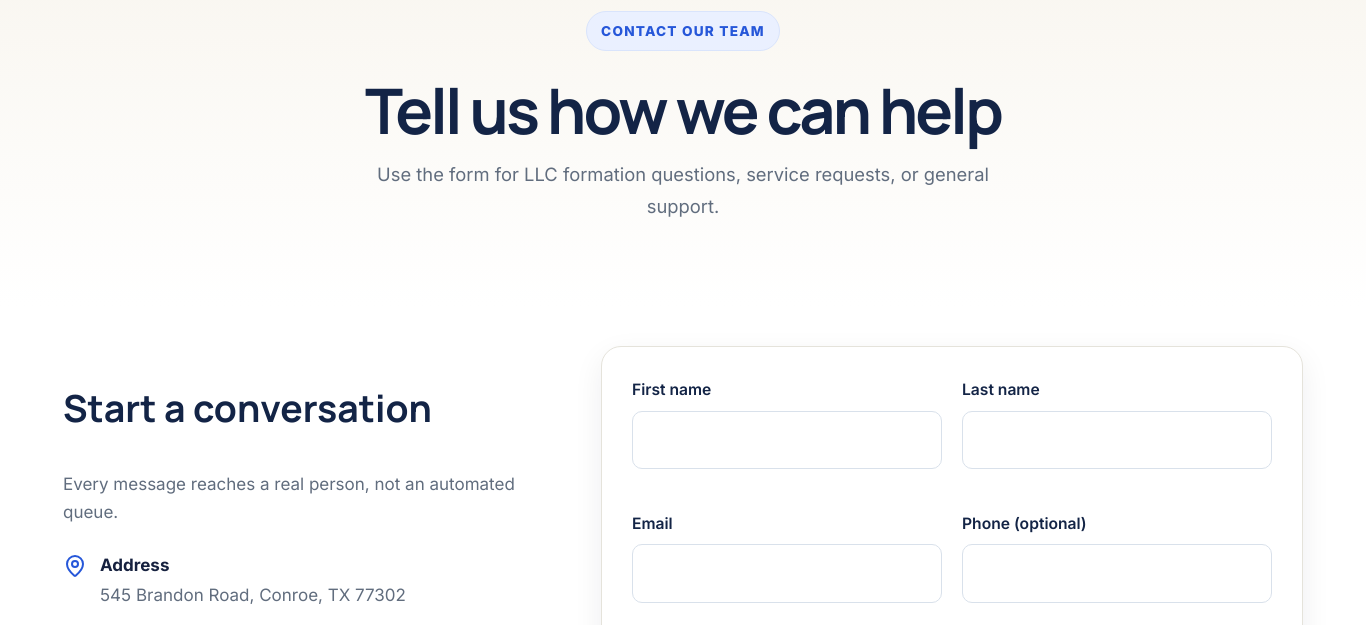
Test case: Contact page › shows a real error, not a fake success, when the backend rejects the submission
Type "Jamie" into the field labelled "First name". click: (787, 440)
box: x1=632 y1=411 x2=942 y2=469
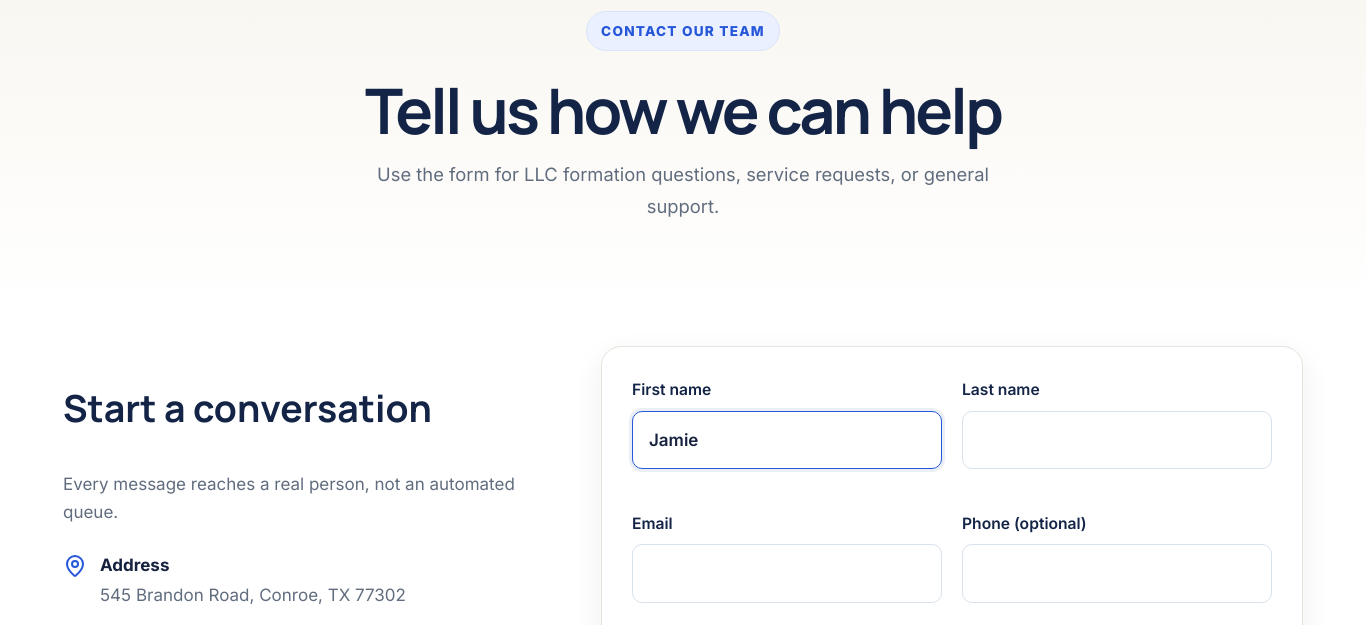
Type "Rivera" into the field labelled "Last name". click: (1117, 440)
box: x1=962 y1=411 x2=1272 y2=469
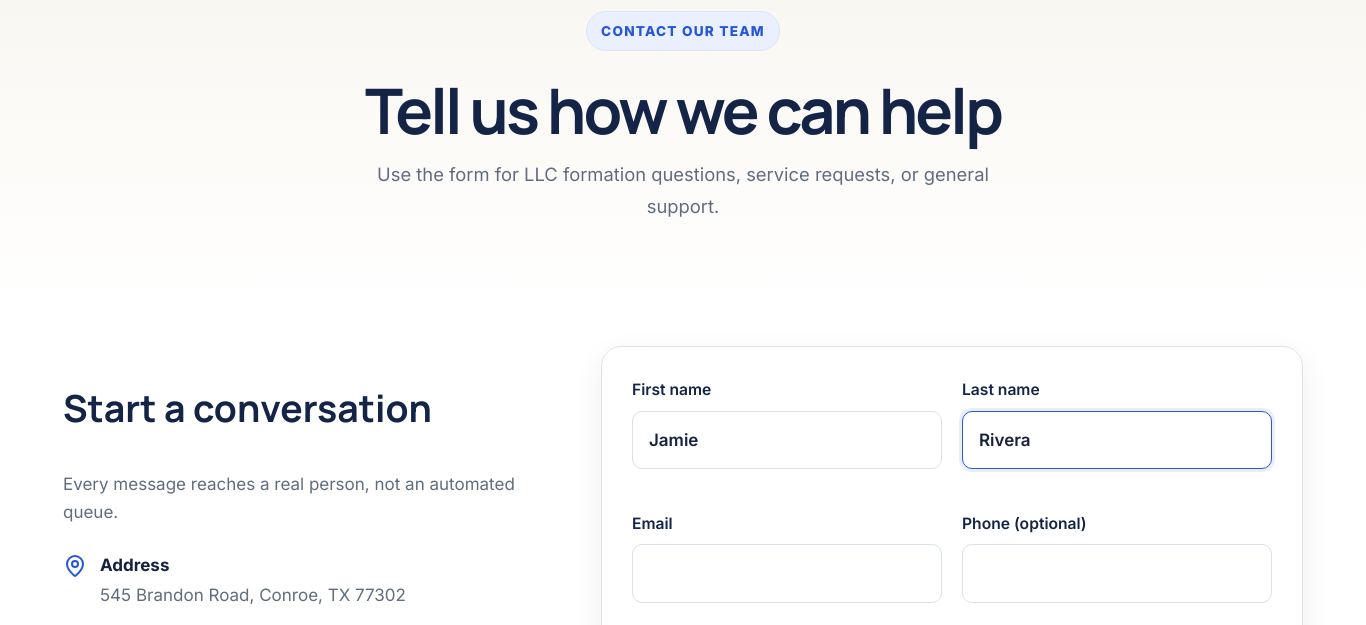
Type "jamie@example.com" into the field labelled "Email". click: (787, 574)
box: x1=632 y1=544 x2=942 y2=602
(page scrolled)
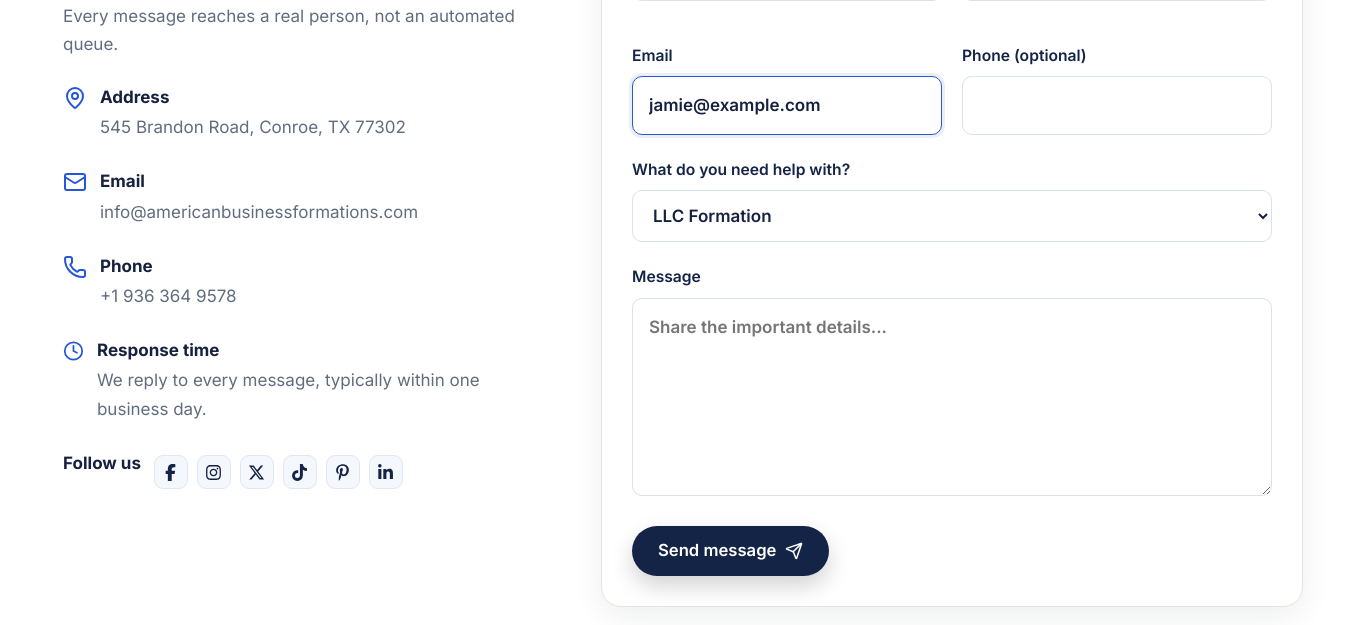
Type "I have a question about registered agents." into the text box labelled "Message". click: (952, 397)
box: x1=632 y1=298 x2=1272 y2=496
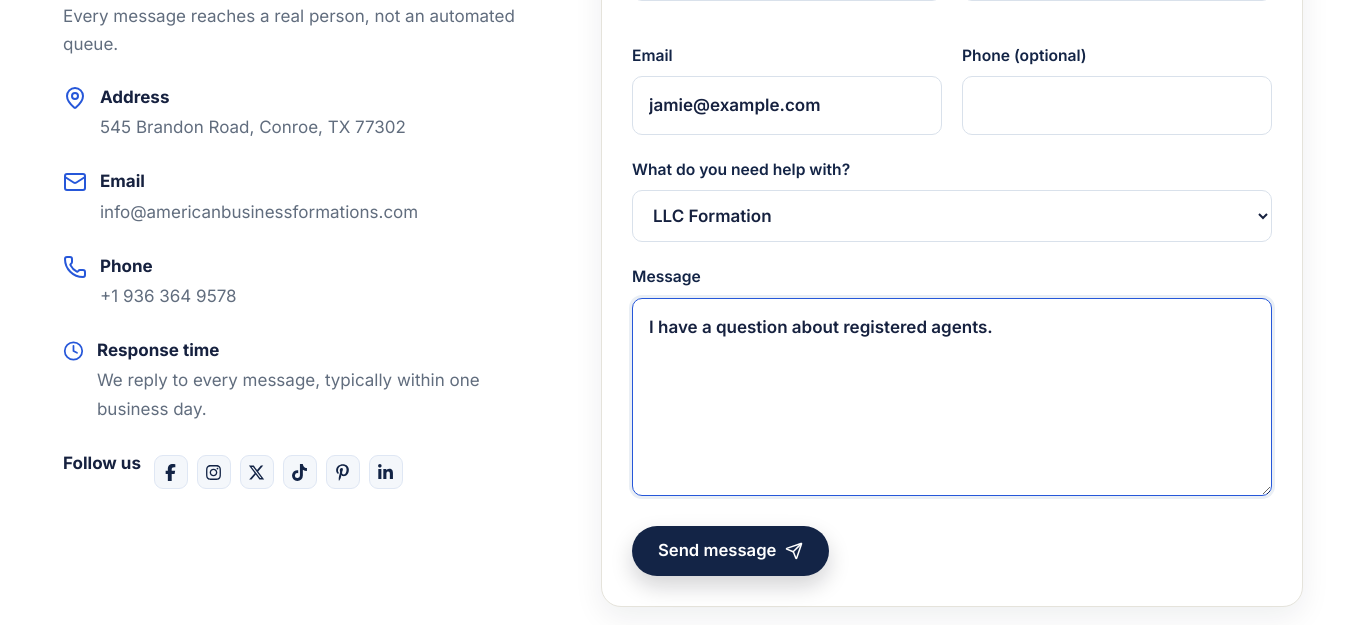
Click the button "Send message". click: (731, 551)
box: x1=632 y1=526 x2=830 y2=576
(page scrolled)
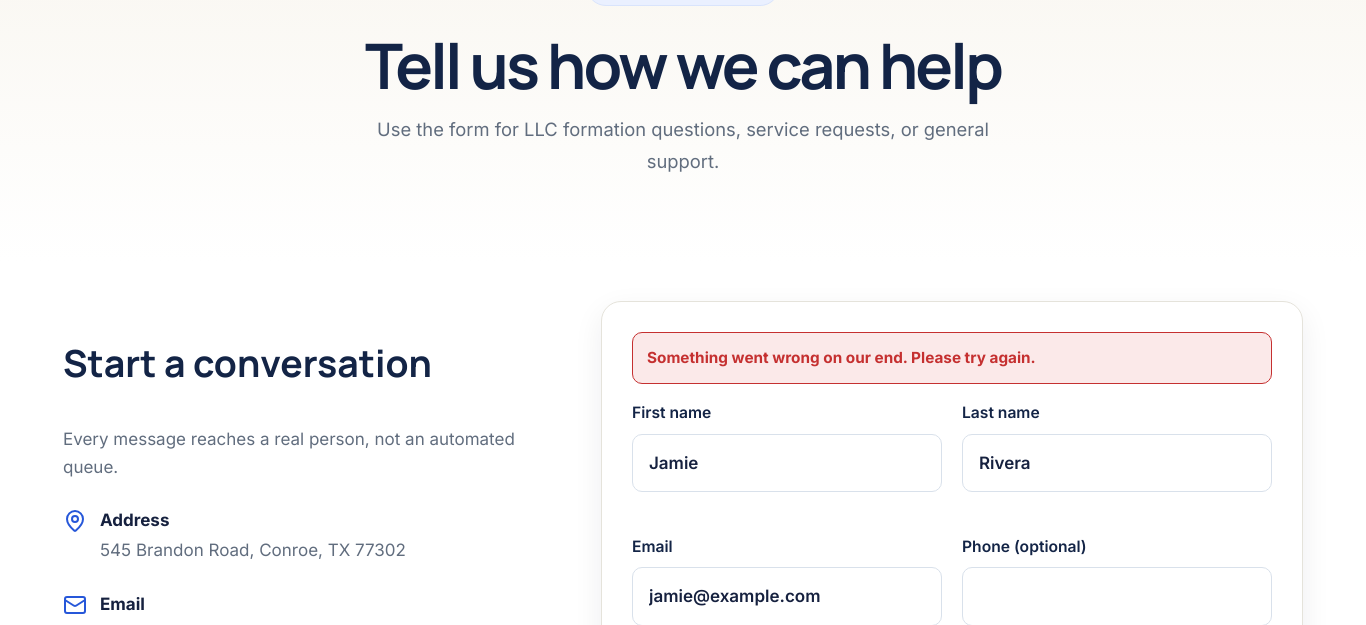
expect the text "Something went wrong on our end. Please try again." is shown: met, box x1=632 y1=332 x2=1272 y2=384
